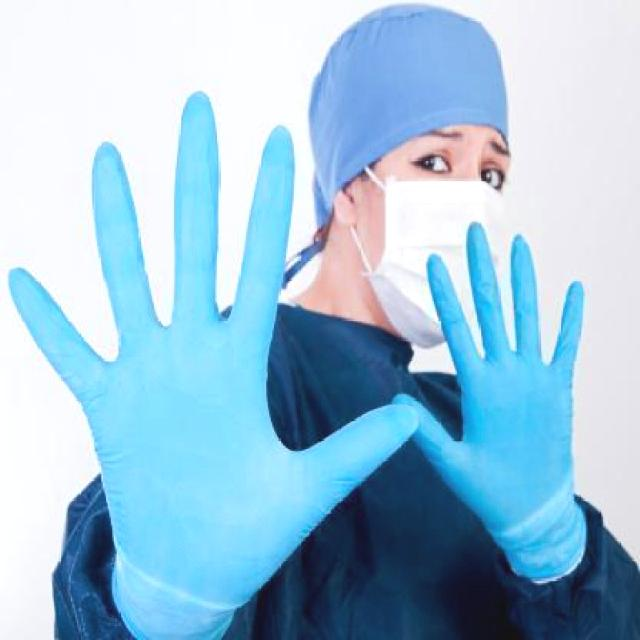face_mask: (368, 118, 504, 342)
hand_glove: (5, 90, 420, 622), (389, 217, 591, 537)
head_nohelmet: (311, 2, 520, 162)
person: (24, 1, 640, 640)
